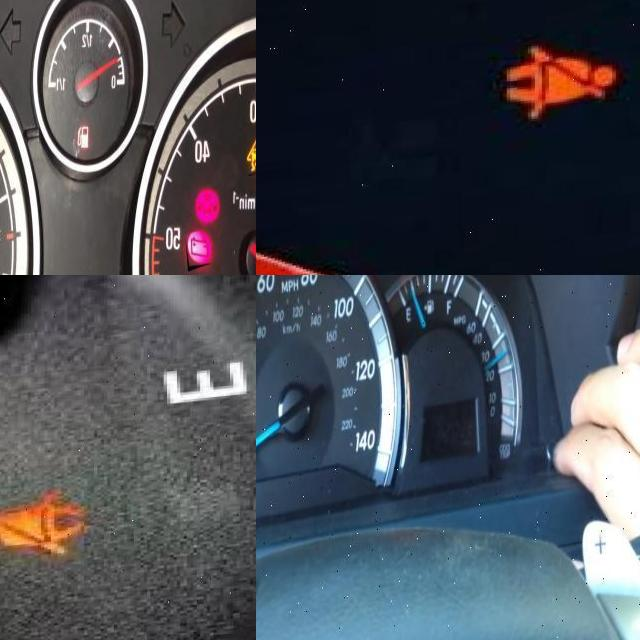Seat Belt: (504, 48, 614, 125), (0, 498, 83, 571)
